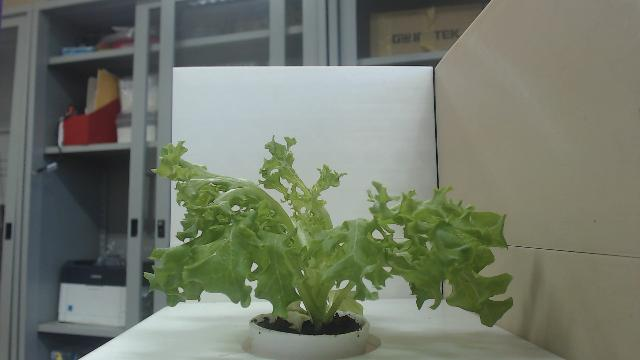Harvest Stage: (142, 132, 516, 332)
